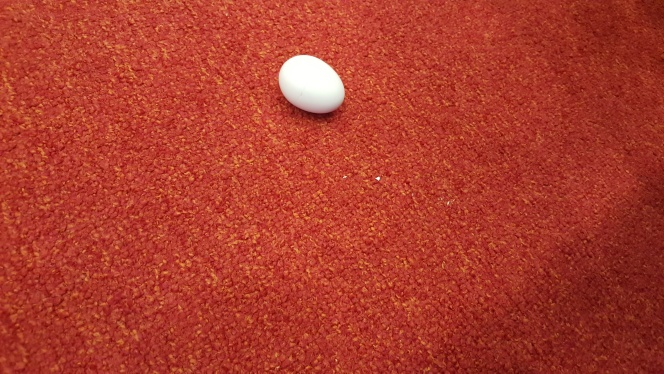egg: (277, 54, 346, 116)
